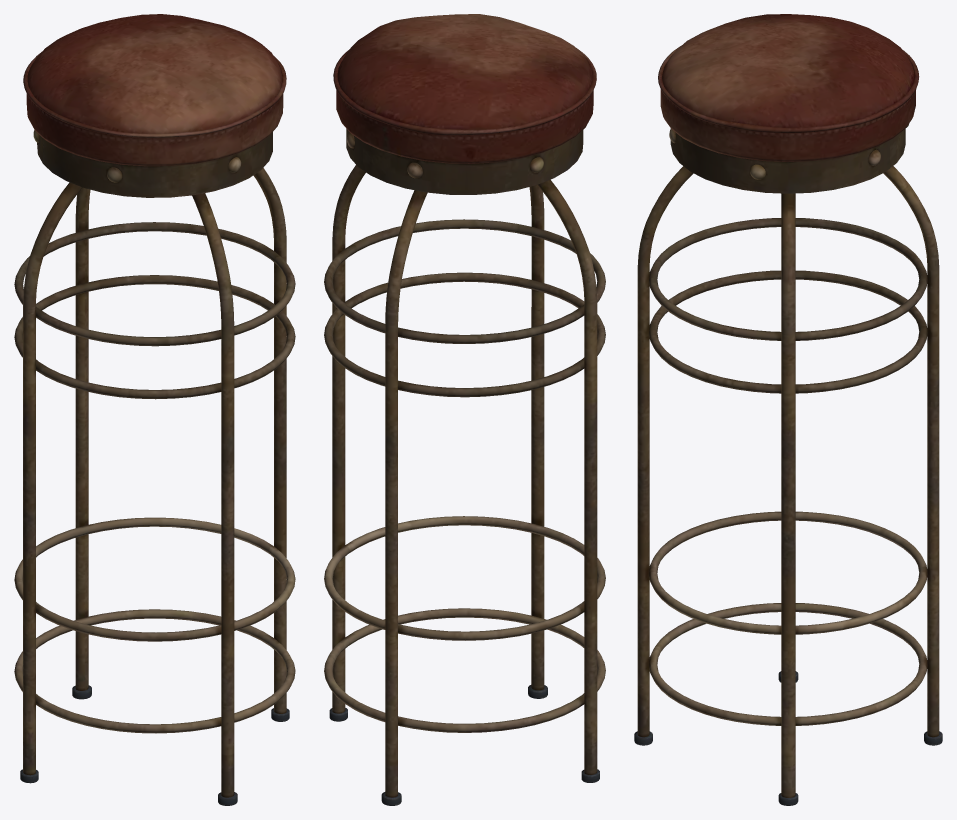
File: m_metal_stool_01.glb
The picture shows the model from 3 angles, left to right: view 1: azimuth 30°, elevation 25°; view 2: azimuth 150°, elevation 25°; view 3: azimuth 270°, elevation 25°; orthographic projection.
Parts seen in each view (by area): view 1: metal_stool_01; view 2: metal_stool_01; view 3: metal_stool_01.
Boxes of the visible parts, x1,y1,x2,y2 form: metal_stool_01: (14,14,295,805); metal_stool_01: (324,14,605,805); metal_stool_01: (634,14,942,805).
Bounding box in the file's own units: 0.352 × 0.8828 × 0.3546.
1 material, 1 textured.
